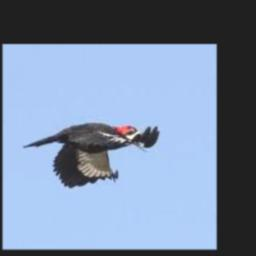Woodpecker: (22, 122, 159, 189)
